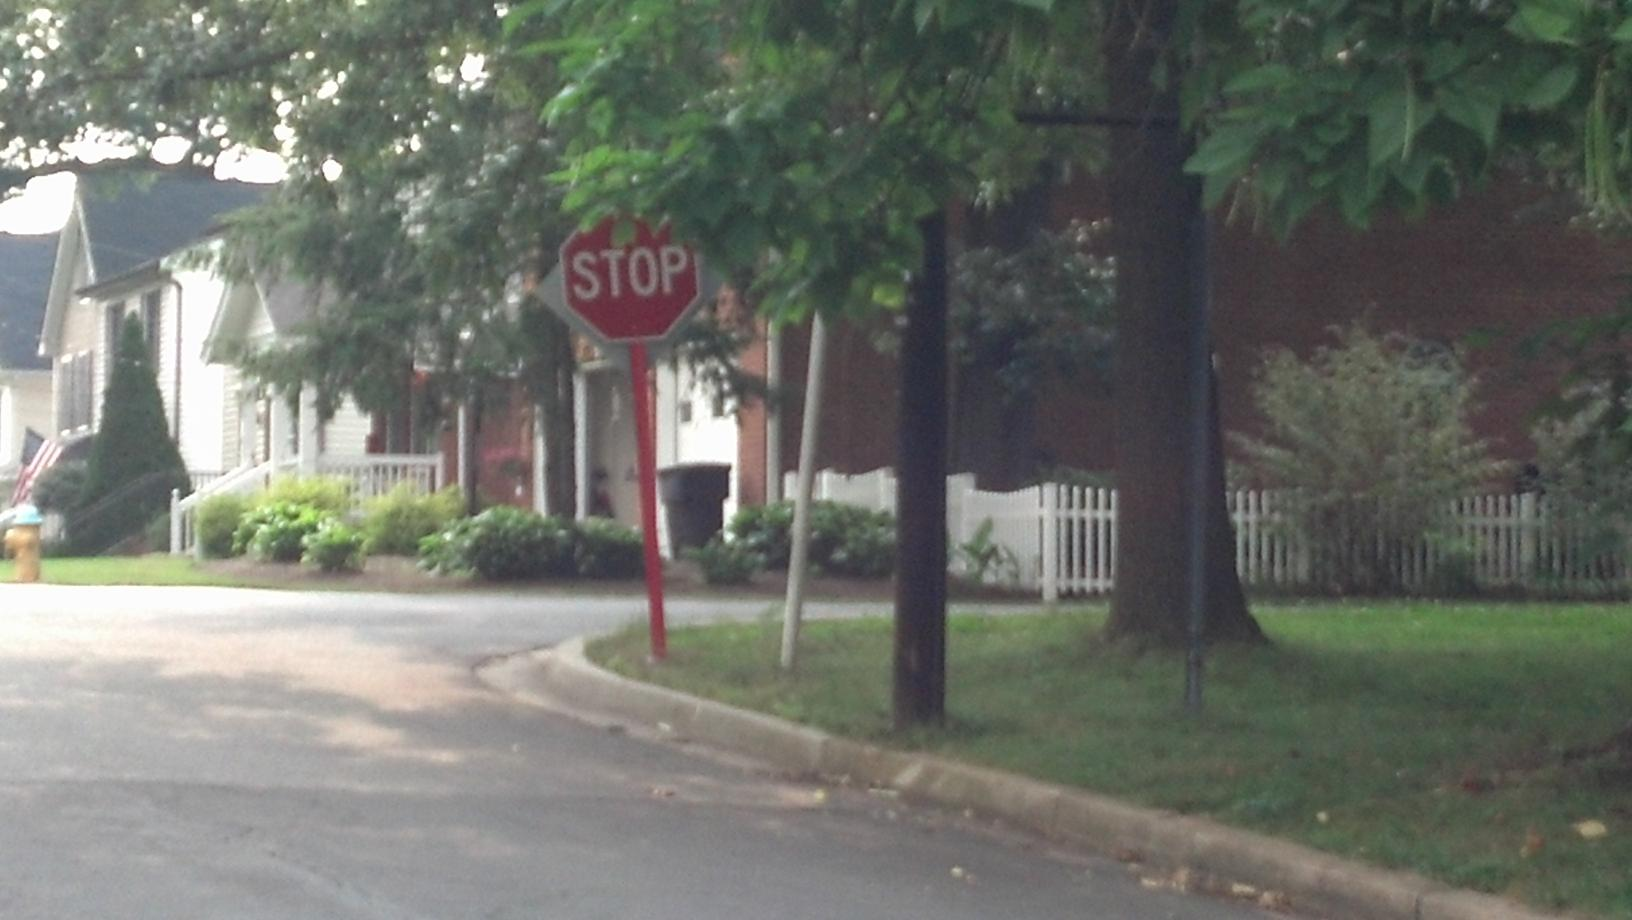stop: (556, 199, 703, 336)
